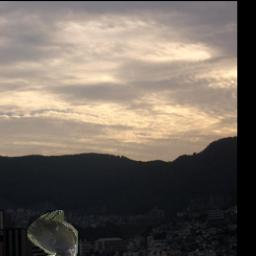Crow: (27, 210, 77, 256)
